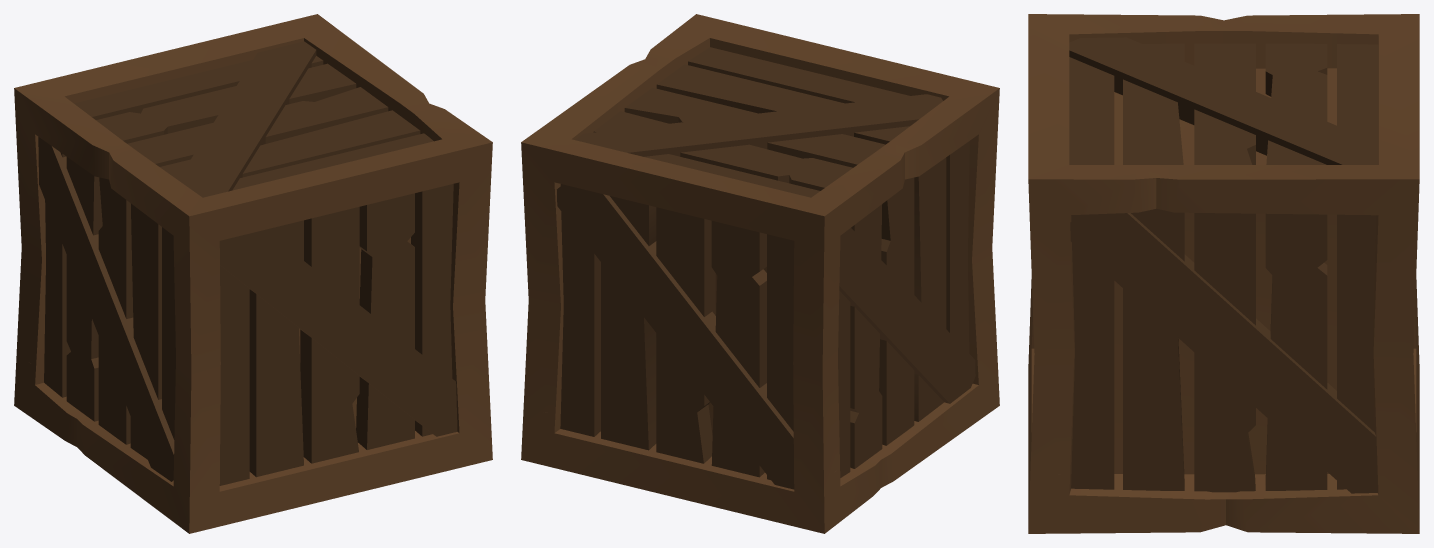
File: b_crate.glb
3 renders of one model, left to right at view 1: azimuth 30°, elevation 25°; view 2: azimuth 150°, elevation 25°; view 3: azimuth 270°, elevation 25°, orthographic. The views are drawn at different scales.
Visible parts, largest first — view 1: Crate; view 2: Crate; view 3: Crate.
Part boxes in pixels (box(x1,y1,x2,y2)): Crate: box(14, 14, 492, 533); Crate: box(521, 14, 999, 533); Crate: box(1028, 14, 1419, 533).
Size of the model in its own units: 0.1602 by 0.1602 by 0.1602.
